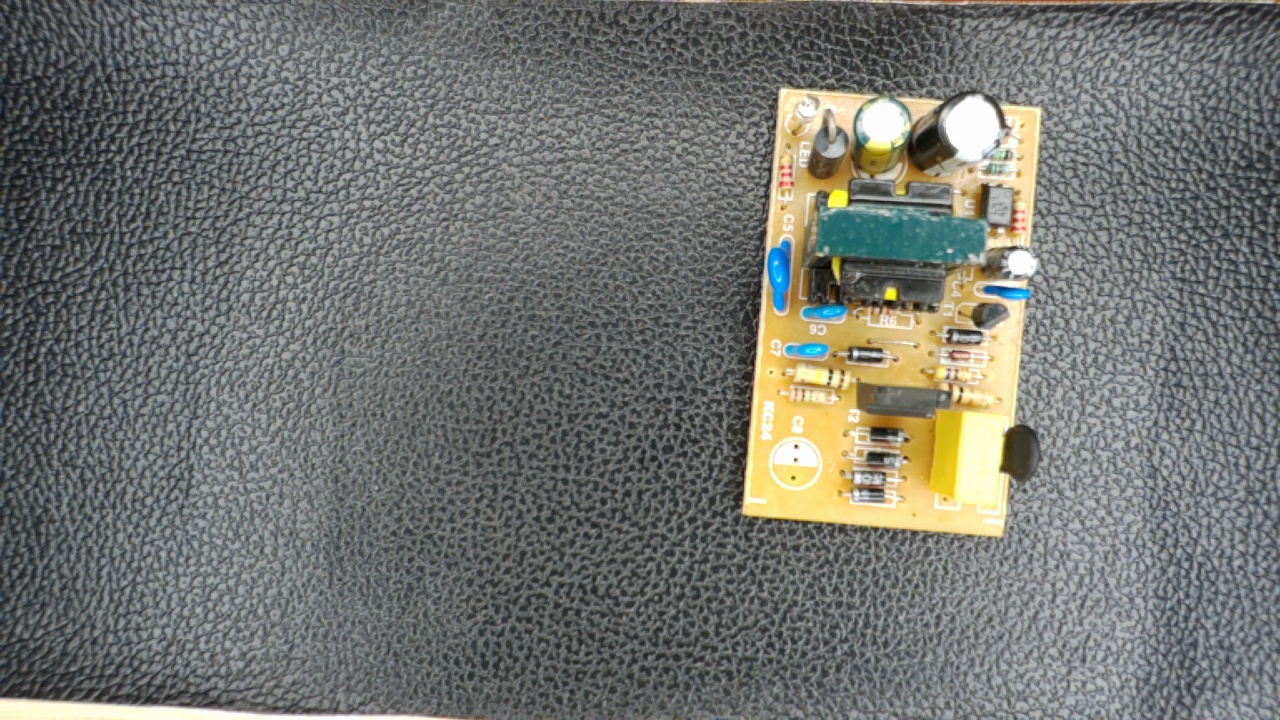fuse: (992, 417, 1044, 489)
mov: (759, 224, 798, 317)
optocoupler: (978, 176, 1020, 242)
